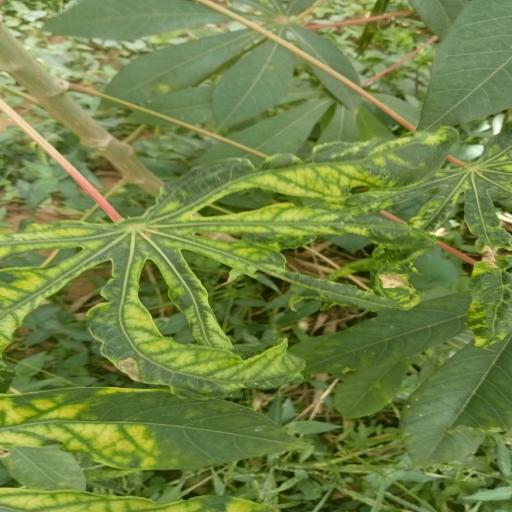Cassava_Mosaic: (0, 129, 451, 400)
